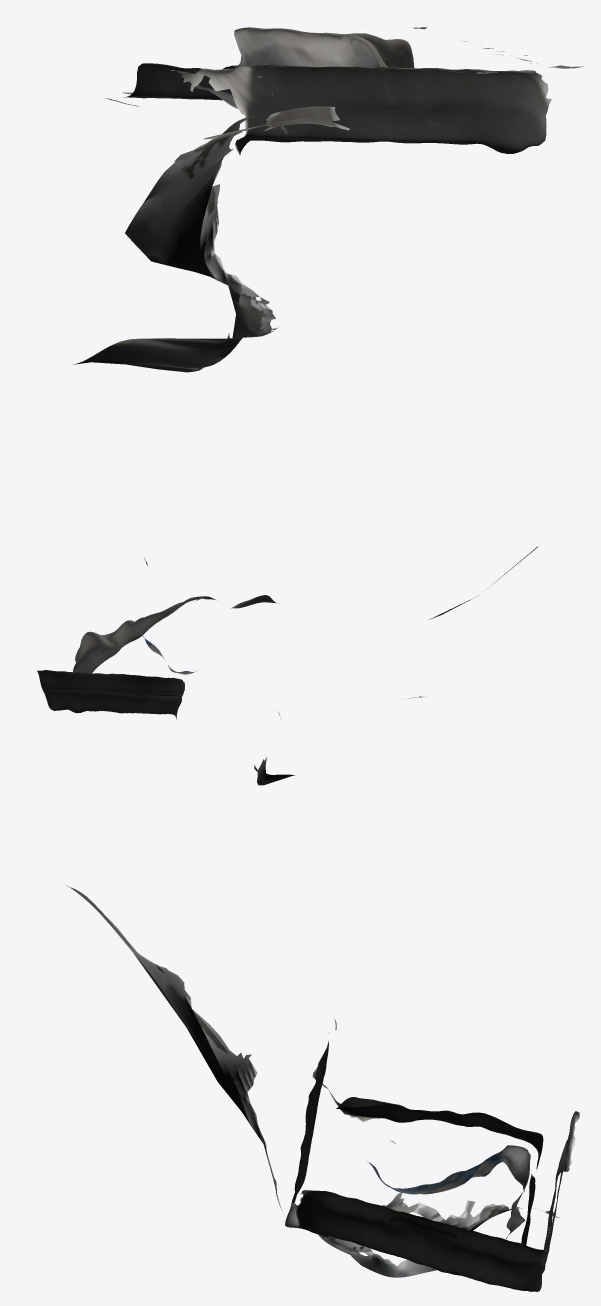
3 views of the same model, one above another, from view 1: azimuth 30°, elevation 25°; view 2: azimuth 150°, elevation 25°; view 3: azimuth 270°, elevation 25° (orthographic). The views are drawn at different scales.
Size of the model in its own units: 1.28 by 0.9295 by 1.43.
Materials: 1 (1 with a texture image).
